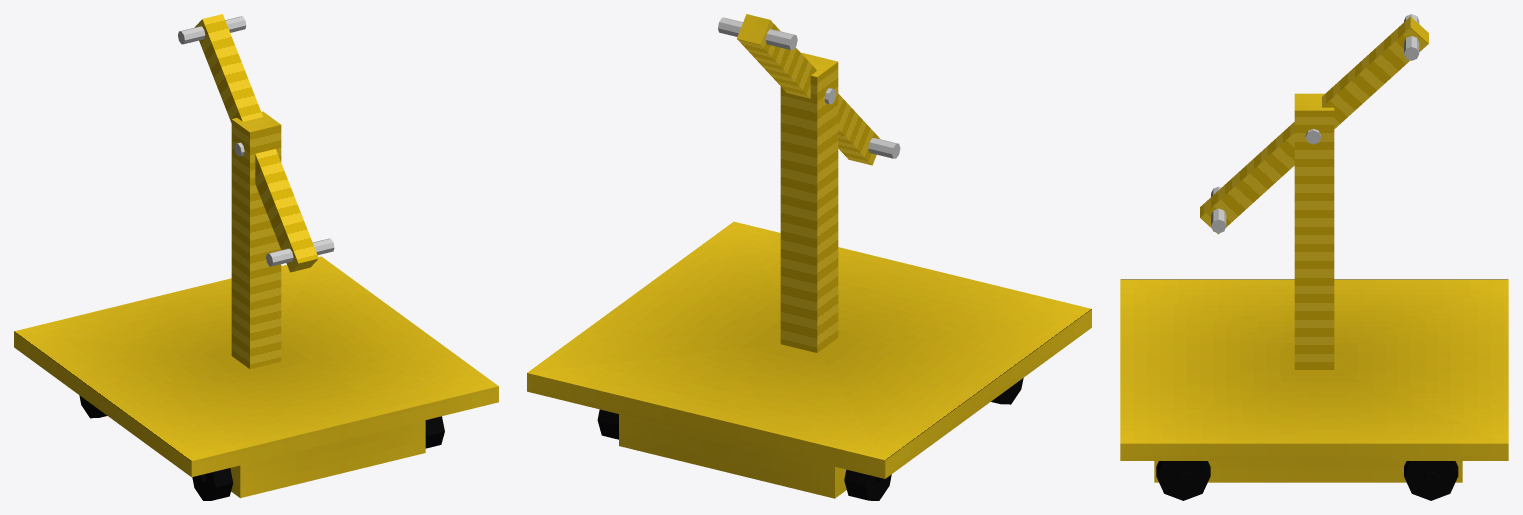
The model's file is carts_handcar.obj.
3 views of the same model, side by side, from view 1: azimuth 30°, elevation 25°; view 2: azimuth 150°, elevation 25°; view 3: azimuth 270°, elevation 25° (orthographic). The views are drawn at different scales.
Parts seen in each view (by area): view 1: Cube_Cube.002; view 2: Cube_Cube.002; view 3: Cube_Cube.002.
Boxes of the visible parts, x1,y1,x2,y2 form: Cube_Cube.002: (14,14,498,500); Cube_Cube.002: (527,14,1091,500); Cube_Cube.002: (1120,14,1508,500).
Bounding box in the file's own units: 10 × 11.84 × 10.
